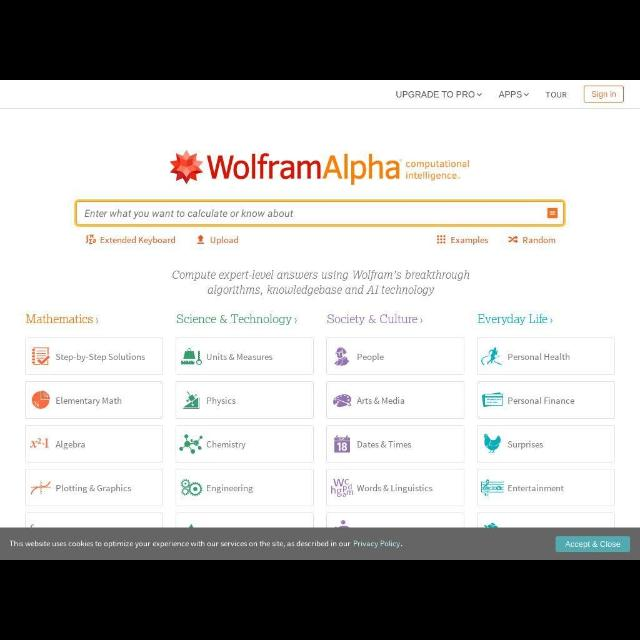icon: (546, 207, 558, 219), (87, 233, 97, 244), (436, 234, 446, 244), (197, 234, 205, 246), (509, 236, 519, 244), (522, 92, 532, 98), (476, 92, 482, 98)
iframe: (3, 528, 639, 558), (31, 347, 51, 365)
image: (170, 151, 470, 185), (480, 477, 504, 499), (330, 478, 356, 498), (180, 432, 203, 454), (481, 347, 504, 368), (482, 431, 503, 454), (178, 479, 204, 496), (30, 477, 51, 497), (30, 390, 50, 410), (182, 346, 202, 366), (333, 390, 353, 410), (484, 389, 504, 409), (32, 346, 49, 366), (30, 434, 50, 450), (334, 346, 350, 366), (334, 436, 351, 454), (184, 392, 200, 410)
input: (74, 200, 566, 228)
link: (354, 542, 402, 548)
spinner: (418, 310, 426, 326), (292, 310, 300, 324), (95, 314, 104, 324), (548, 314, 554, 326), (522, 92, 532, 98), (476, 90, 482, 98)
text: (173, 270, 472, 296), (10, 539, 402, 549), (84, 208, 294, 218), (175, 309, 292, 325), (327, 310, 418, 326), (56, 482, 132, 496), (477, 312, 547, 326), (56, 353, 146, 363), (100, 235, 177, 245), (206, 352, 274, 363), (25, 313, 95, 323), (506, 352, 572, 362), (509, 396, 575, 406), (396, 90, 474, 98), (55, 398, 123, 407), (358, 485, 434, 493), (508, 483, 566, 493), (358, 441, 410, 452), (208, 484, 254, 494), (358, 396, 404, 406), (566, 540, 622, 548), (206, 438, 246, 449), (206, 395, 238, 407), (451, 235, 489, 245), (56, 438, 86, 449), (525, 235, 557, 245), (508, 440, 546, 448), (210, 236, 240, 244), (357, 353, 383, 361), (592, 91, 616, 99), (546, 91, 568, 99), (498, 92, 522, 98)
textbutton: (556, 534, 630, 552), (584, 87, 624, 103)
